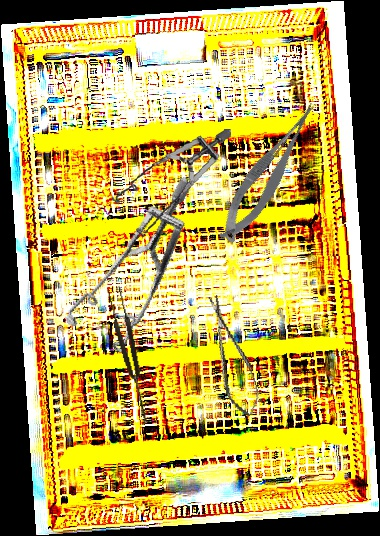Micro Scissor: (205, 98, 335, 248), (201, 291, 264, 420)
Speculum: (32, 176, 244, 371), (105, 128, 243, 241)
Tissue Forceps: (105, 284, 154, 426)
